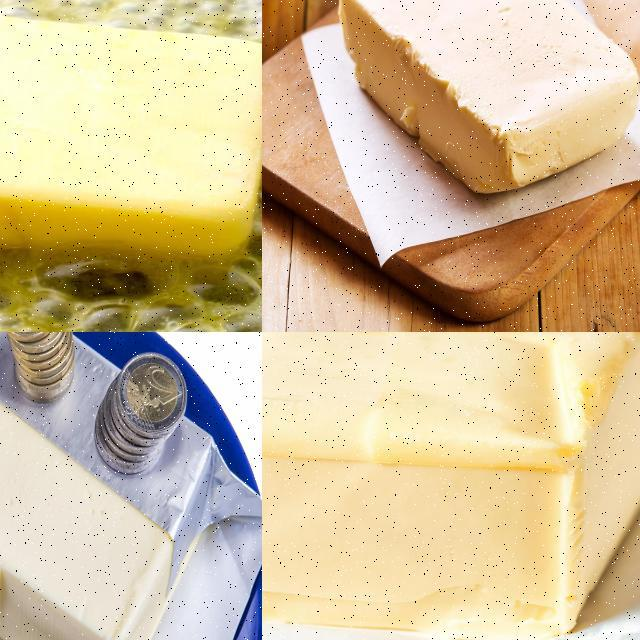Butter: (262, 332, 639, 639), (0, 1, 261, 266), (335, 0, 639, 196), (0, 358, 175, 639)
